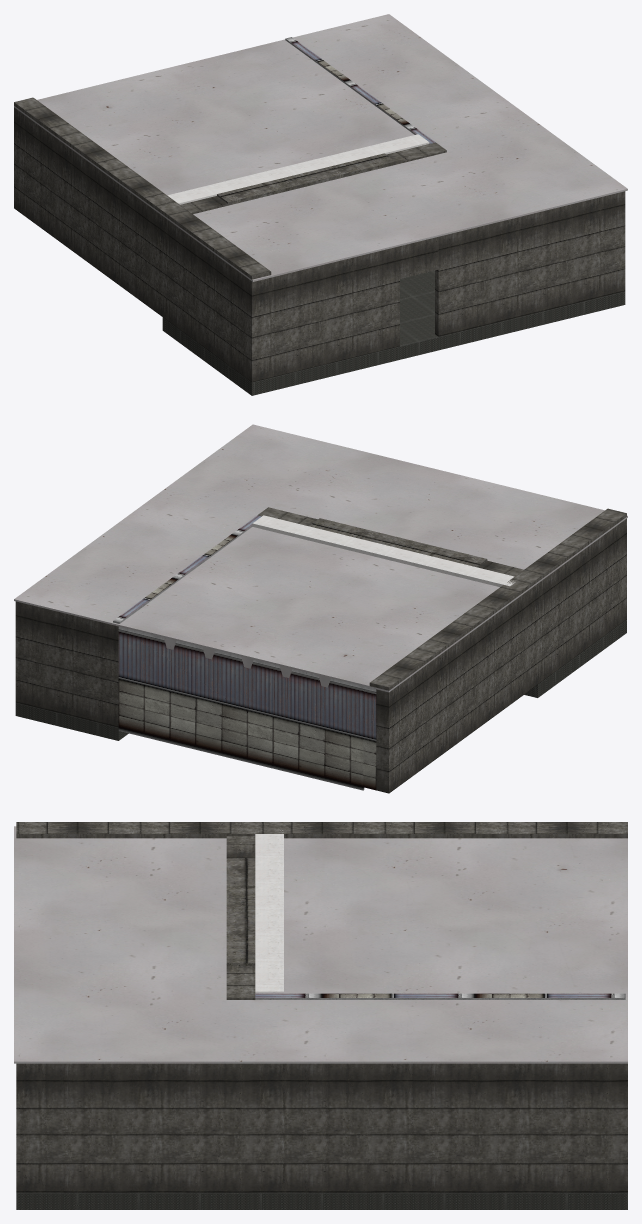
Rendered from HC_cont1_173.gltf.
3 renders of one model, top to bottom at view 1: azimuth 30°, elevation 25°; view 2: azimuth 150°, elevation 25°; view 3: azimuth 270°, elevation 25°, orthographic. The views are drawn at different scales.
Visible parts, largest first — view 1: HC_cont1_173; view 2: HC_cont1_173; view 3: HC_cont1_173.
Boxes of the visible parts, left/top/right/bottom form: HC_cont1_173: left=14, top=14, right=627, bottom=395; HC_cont1_173: left=14, top=424, right=627, bottom=793; HC_cont1_173: left=14, top=822, right=627, bottom=1209.
Bounding box in the file's own units: 18.64 × 5.68 × 20.56.
7 materials, 7 textured.
